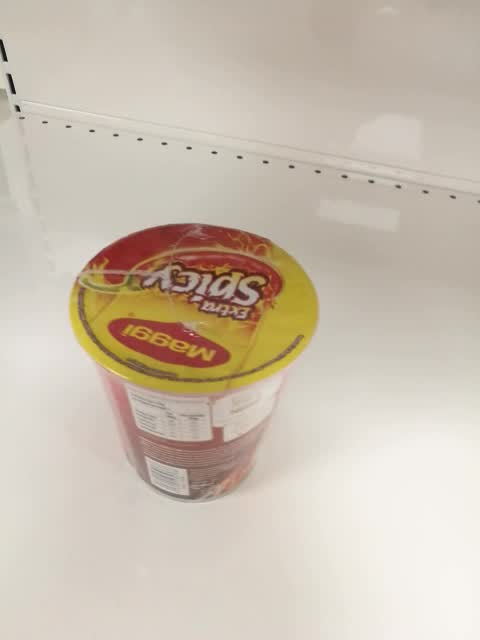maggi: (69, 223, 320, 503)
